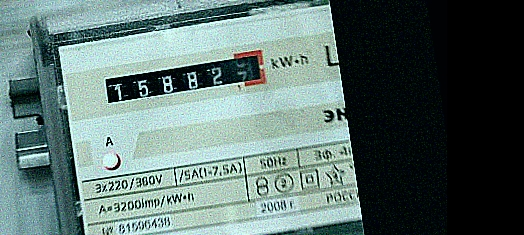1: (111, 81, 123, 100)
2: (209, 64, 224, 86)
5: (133, 77, 150, 98)
7: (234, 68, 247, 81)
8: (183, 68, 199, 91), (160, 73, 175, 94)
screen: (98, 46, 271, 111)
